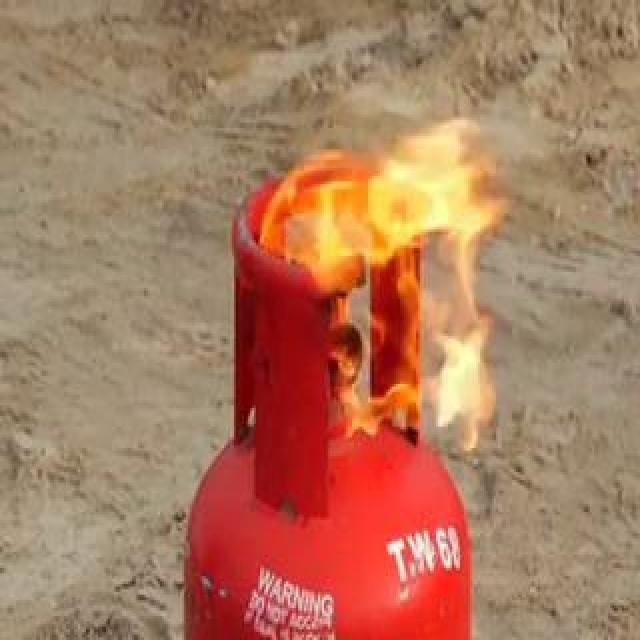Fire: (253, 46, 547, 462)
